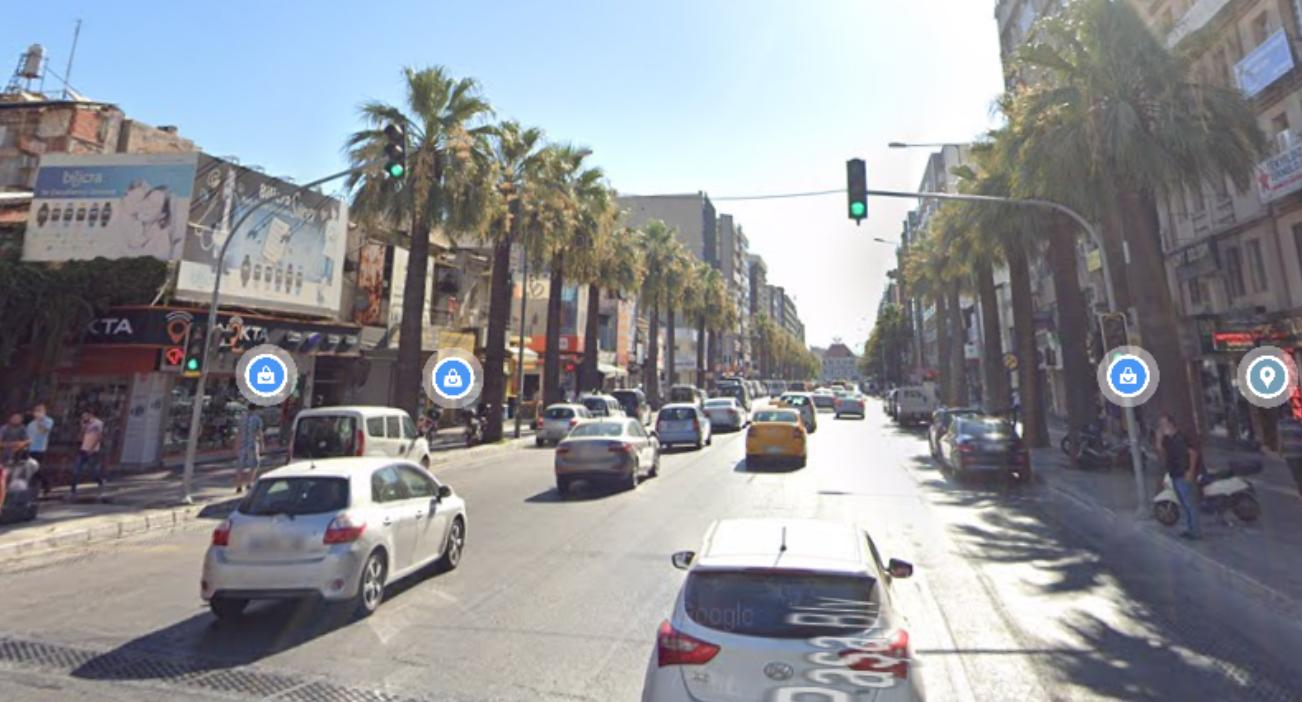greenlight: (846, 158, 867, 219), (385, 124, 407, 177), (185, 322, 202, 371)
